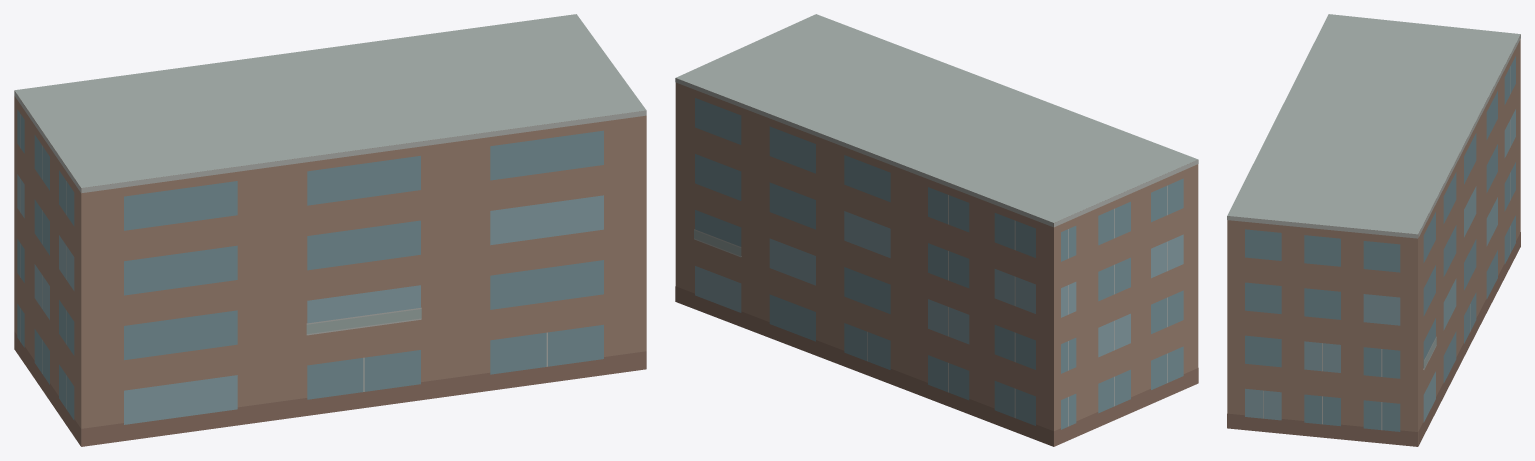
File: survey-upis-32851600.glb
3 views of the same model, side by side, from view 1: azimuth 30°, elevation 25°; view 2: azimuth 150°, elevation 25°; view 3: azimuth 270°, elevation 25° (orthographic). The views are drawn at different scales.
Visible parts, largest first — view 1: survey-upis-32851600.tmp; view 2: survey-upis-32851600.tmp; view 3: survey-upis-32851600.tmp.
Boxes of the visible parts, x1,y1,x2,y2 form: survey-upis-32851600.tmp: (14,14,646,446); survey-upis-32851600.tmp: (675,14,1198,446); survey-upis-32851600.tmp: (1227,14,1520,446).
Bounding box in the file's own units: 27.14 × 12.2 × 15.29.
